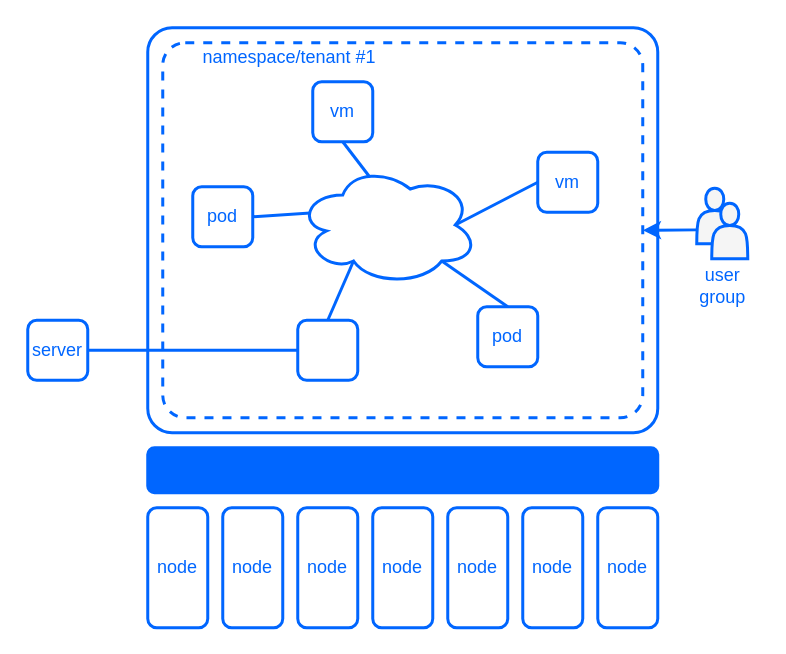
Some shapes in this 786 by 654 pixel diagram are drawn without their labels. The shapes that lost their labels are listed below. From the top down, each one's centre as x and y in pixels, then its label:
At point 387,224: "network".
At point 327,349: "service".
At point 402,470: "Deckhouse Virtualization".
